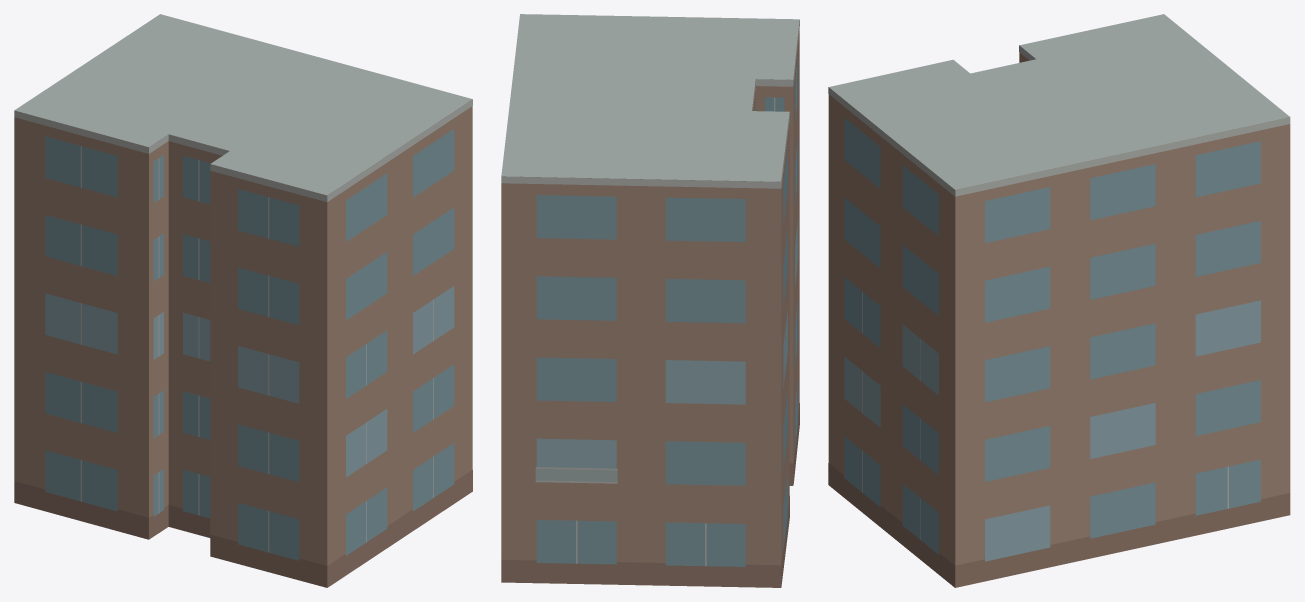
File: survey-upis-32862260.glb
3 renders of one model, left to right at view 1: azimuth 30°, elevation 25°; view 2: azimuth 150°, elevation 25°; view 3: azimuth 270°, elevation 25°, orthographic. The views are drawn at different scales.
Visible parts, largest first — view 1: survey-upis-32862260.tmp; view 2: survey-upis-32862260.tmp; view 3: survey-upis-32862260.tmp.
Boxes of the visible parts, box(x1,y1,x2,y2) form: survey-upis-32862260.tmp: box(14, 14, 472, 587); survey-upis-32862260.tmp: box(501, 14, 799, 587); survey-upis-32862260.tmp: box(828, 14, 1290, 587).
Bounding box in the file's own units: 13.52 × 14.25 × 14.99.
